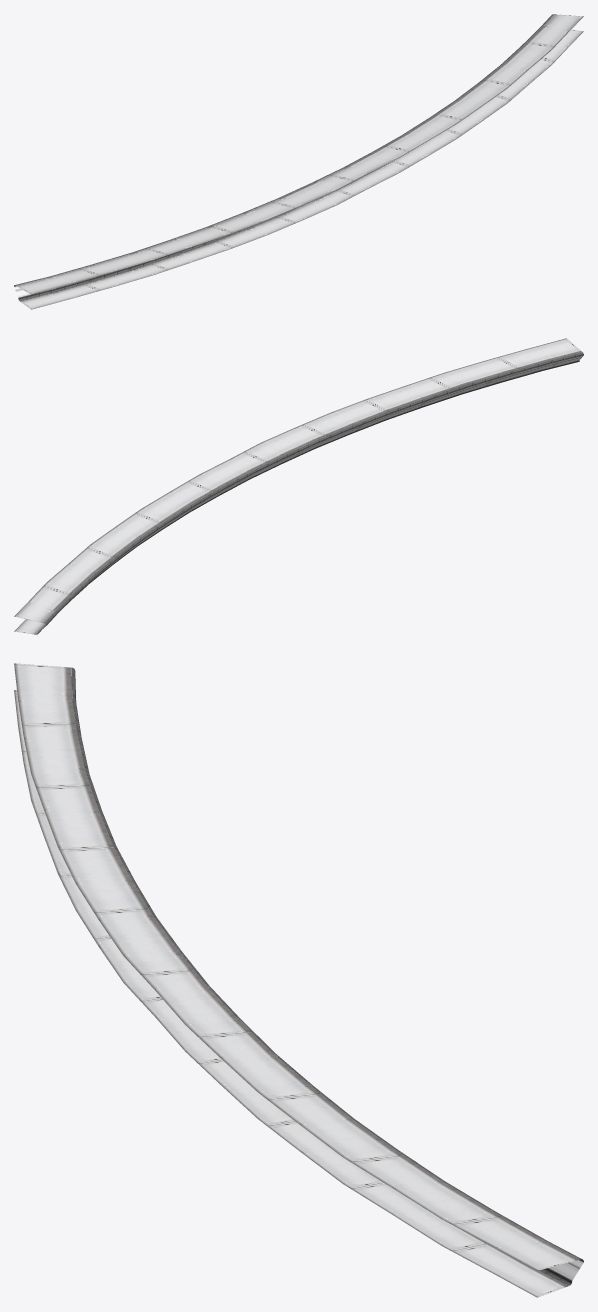
File: Club_CircTrim_01.FBX
3 renders of one model, top to bottom at view 1: azimuth 30°, elevation 25°; view 2: azimuth 210°, elevation 25°; view 3: azimuth 270°, elevation 25°, orthographic. The views are drawn at different scales.
Parts seen in each view (by area): view 1: Club_CircTrim_01; view 2: Club_CircTrim_01; view 3: Club_CircTrim_01.
Part boxes in pixels (x1,y1,x2,y2): Club_CircTrim_01: [14, 14, 583, 309]; Club_CircTrim_01: [14, 338, 583, 634]; Club_CircTrim_01: [14, 663, 583, 1297].
Bounding box in the file's own units: 48.85 × 1 × 19.36.
